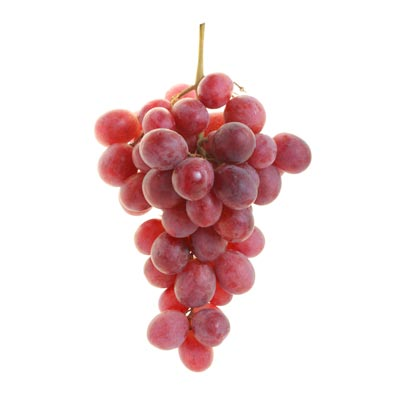Red Grapes: (91, 71, 309, 384)
